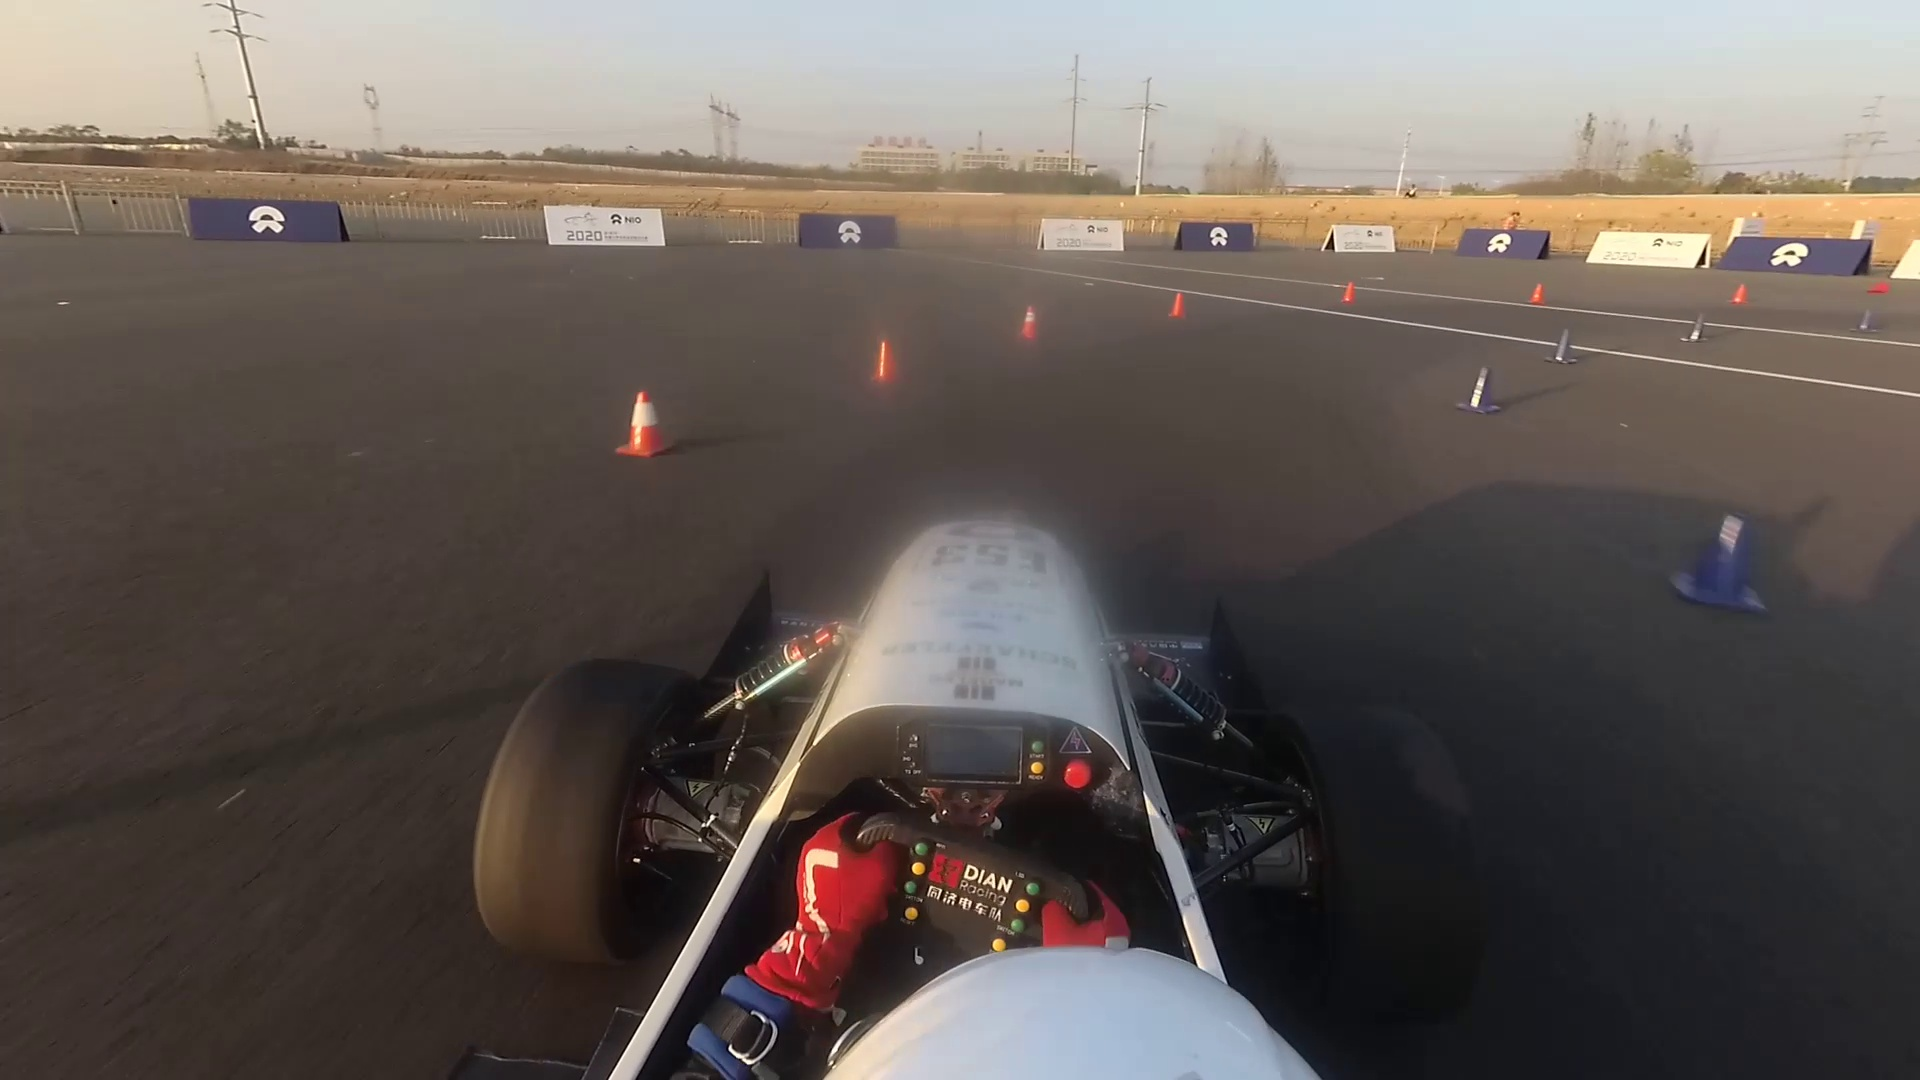blue_cone: (1663, 505, 1780, 616), (1455, 365, 1506, 415), (1543, 331, 1584, 365), (1677, 318, 1714, 343), (1855, 306, 1883, 334)
red_cone: (609, 388, 682, 462), (864, 336, 901, 385), (1018, 301, 1044, 339), (1167, 286, 1191, 324), (1344, 278, 1357, 309), (1731, 284, 1747, 309), (1869, 280, 1892, 295), (1528, 284, 1544, 306)
